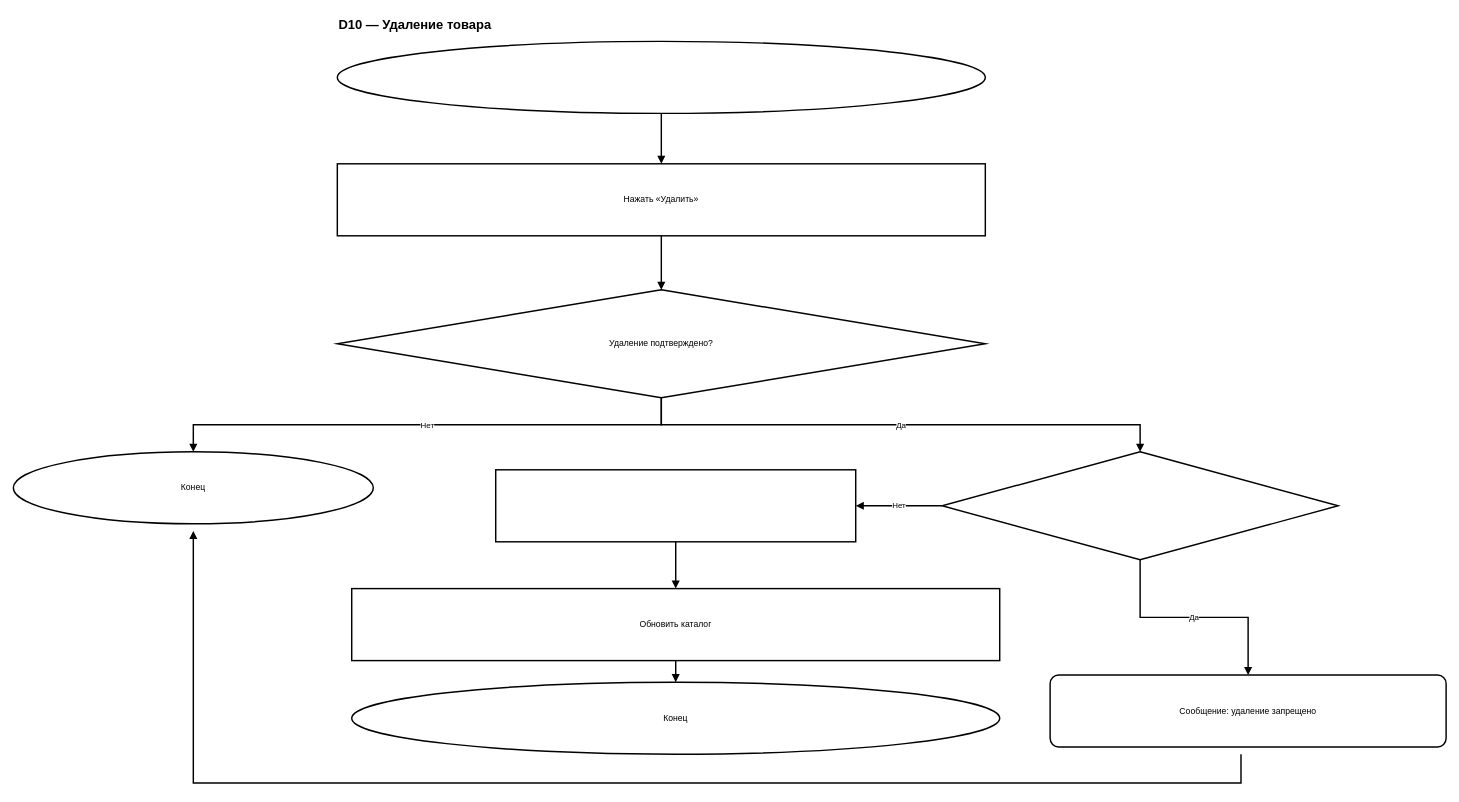
Image size: 1459x802. Some labels were removed from this diagram. Here are the shapes that lost their labels. From the top down, the centre of each, then its label:
At (661,77): "Выбран товар".
At (675,505): "Удалить товар".
At (1139,505): "Товар есть в заказе?".
